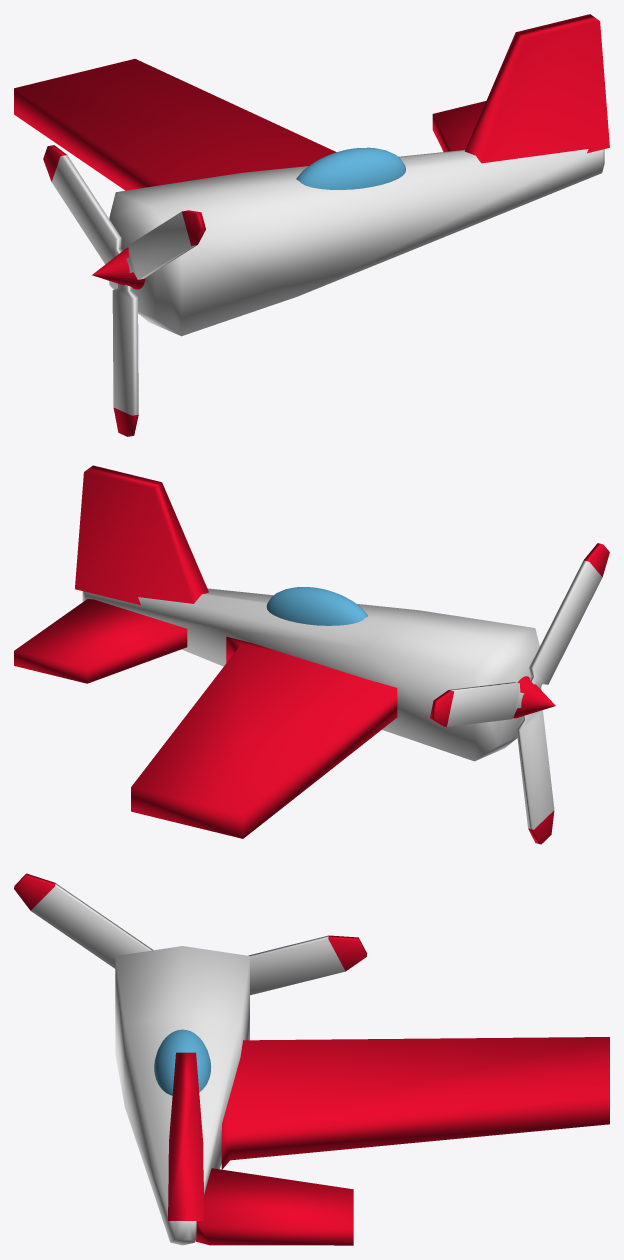
3 renders of one model, top to bottom at view 1: azimuth 30°, elevation 25°; view 2: azimuth 150°, elevation 25°; view 3: azimuth 270°, elevation 25°, orthographic. The views are drawn at different scales.
Visible parts, largest first — view 1: plane, Cube.004, Cube.006, Cube.001, Cube, Sphere, Cube.002, Cube.005, Cone; view 2: Cube.004, plane, Cube.006, Cube.005, Cube.002, Cube.001, Cube, Sphere, Cone; view 3: Cube.004, plane, Cube.005, Cube.006, Cube.002, Cube, Sphere.
Part boxes in pixels (x1,y1,x2,y2): plane: (109,149,604,336); Cube.004: (14,59,336,190); Cube.006: (465,14,609,163); Cube.001: (112,284,138,436); Cube: (43,145,122,264); Sphere: (296,147,405,189); Cube.002: (126,210,205,279); Cube.005: (432,101,485,151); Cone: (92,247,145,289); Cube.004: (131,636,397,838); plane: (82,588,541,761); Cube.006: (75,465,208,605); Cube.005: (14,599,187,683); Cube.002: (529,543,609,688); Cube.001: (516,710,554,844); Cube: (430,682,524,726); Sphere: (266,587,367,625); Cone: (513,676,555,718); Cube.004: (221,1037,609,1169); plane: (115,946,249,1245); Cube.005: (196,1168,353,1245); Cube.006: (168,1052,203,1220); Cube.002: (14,873,153,968); Cube: (248,935,367,995); Sphere: (154,1029,211,1095).
Size of the model in its own units: 5.53 by 3.03 by 5.47.
